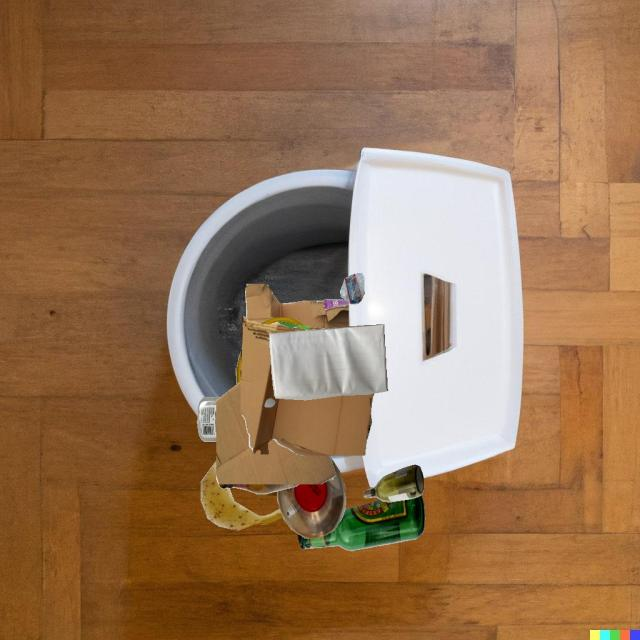biowaste: (200, 460, 283, 530)
cardboard: (241, 317, 374, 456), (216, 381, 336, 484), (245, 284, 349, 329)
glass: (297, 495, 425, 551), (364, 464, 424, 502), (218, 484, 299, 494)
paper: (269, 325, 388, 400)
plastic: (277, 458, 346, 538), (197, 397, 221, 442), (340, 273, 364, 304), (261, 318, 306, 326), (236, 349, 242, 384)
